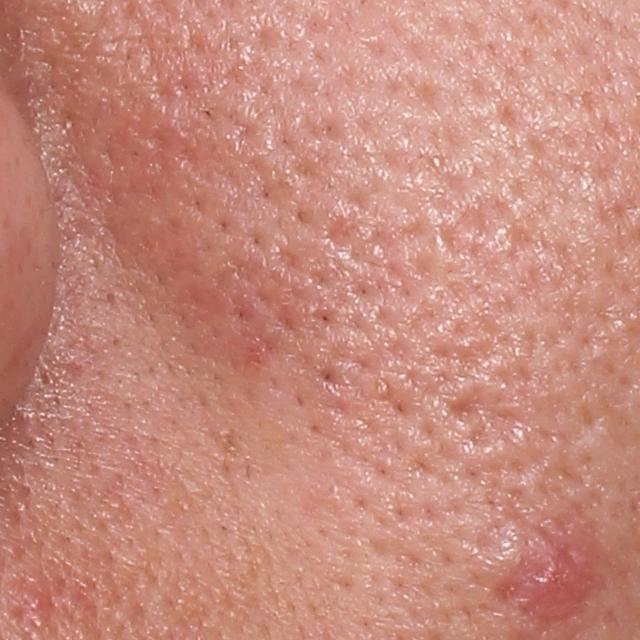atrophic_scar: (443, 381, 529, 459)
papule: (508, 535, 605, 618)
